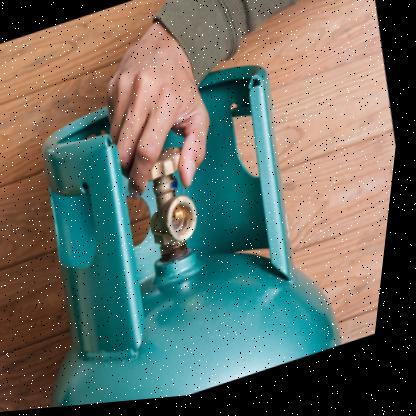gas-tank: (0, 19, 391, 414)
